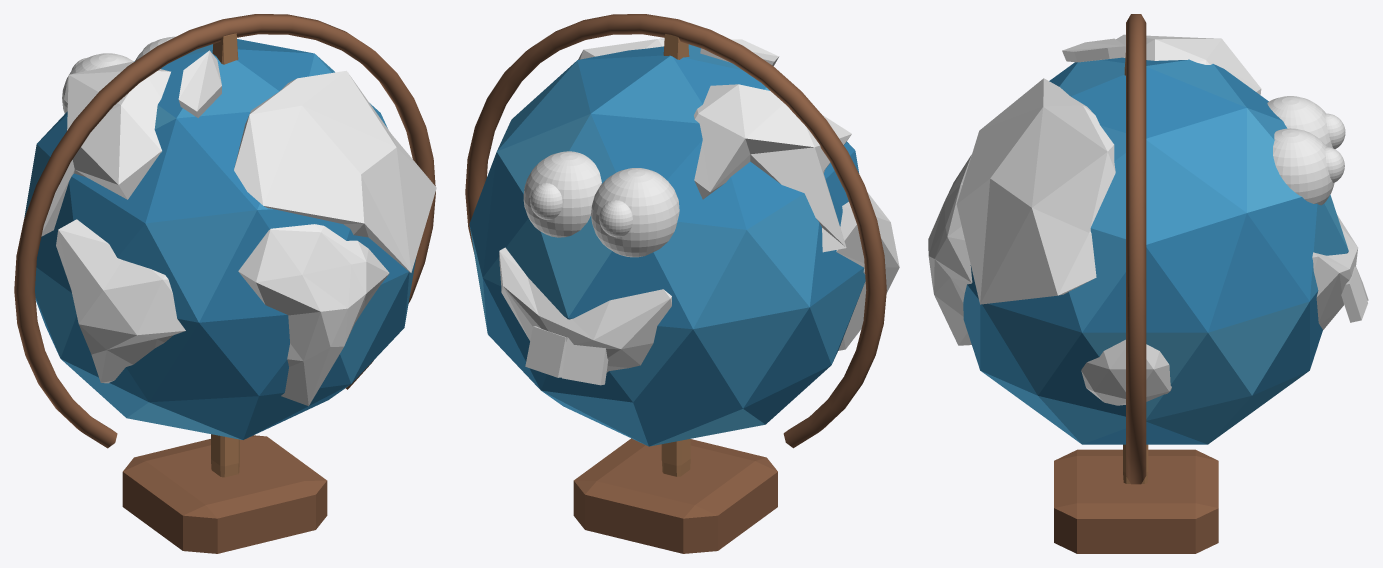
The model's file is WorldGlobe.fbx.
3 renders of one model, left to right at view 1: azimuth 30°, elevation 25°; view 2: azimuth 150°, elevation 25°; view 3: azimuth 270°, elevation 25°, orthographic.
Parts seen in each view (by area): view 1: Globo low-poly, Icosphere.002, Arco do suporte.001, Pino inferior.001, Icosphere.001, Icosphere, America do norte, Groenlandia, Pino superior.001, Sphere.001; view 2: Globo low-poly, Arco do suporte.001, Pino inferior.001, America do norte, Icosphere.004, Sphere.001, Sphere, Icosphere, Cube.001, Cube, Pino superior.001, Sphere.002 (+2 smaller); view 3: Globo low-poly, Icosphere.002, Pino inferior.001, Arco do suporte.001, Icosphere.001, Sphere, Icosphere.003, America do norte, Icosphere.004, Sphere.001, Groenlandia, Cube.
Part boxes in pixels (left/top/right/bottom): Globo low-poly: left=24, top=39, right=416, bottom=439; Icosphere.002: left=234, top=70, right=436, bottom=272; Arco do suporte.001: left=14, top=14, right=435, bottom=448; Pino inferior.001: left=122, top=435, right=327, bottom=553; Icosphere.001: left=238, top=224, right=389, bottom=406; Icosphere: left=56, top=219, right=185, bottom=383; America do norte: left=41, top=62, right=170, bottom=236; Groenlandia: left=178, top=50, right=221, bottom=117; Pino superior.001: left=211, top=33, right=239, bottom=477; Sphere.001: left=62, top=53, right=133, bottom=113; Globo low-poly: left=469, top=44, right=865, bottom=446; Arco do suporte.001: left=465, top=14, right=886, bottom=448; Pino inferior.001: left=573, top=438, right=777, bottom=553; America do norte: left=694, top=84, right=851, bottom=252; Icosphere.004: left=499, top=247, right=671, bottom=372; Sphere.001: left=591, top=168, right=679, bottom=257; Sphere: left=523, top=151, right=601, bottom=237; Icosphere: left=836, top=192, right=899, bottom=350; Cube.001: left=562, top=337, right=608, bottom=385; Cube: left=525, top=326, right=566, bottom=377; Pino superior.001: left=661, top=34, right=690, bottom=476; Sphere.002: left=599, top=200, right=632, bottom=237; Globo low-poly: left=963, top=57, right=1348, bottom=444; Icosphere.002: left=956, top=78, right=1115, bottom=304; Pino inferior.001: left=1054, top=449, right=1218, bottom=553; Arco do suporte.001: left=1126, top=14, right=1146, bottom=484; Icosphere.001: left=928, top=154, right=972, bottom=345; Sphere: left=1273, top=128, right=1334, bottom=205; Icosphere.003: left=1081, top=339, right=1171, bottom=405; America do norte: left=1116, top=34, right=1261, bottom=94; Icosphere.004: left=1312, top=215, right=1357, bottom=329; Sphere.001: left=1267, top=96, right=1332, bottom=148; Groenlandia: left=1062, top=38, right=1125, bottom=62; Cube: left=1341, top=266, right=1367, bottom=322.
Bounding box in the file's own units: 465 × 529 × 432.
